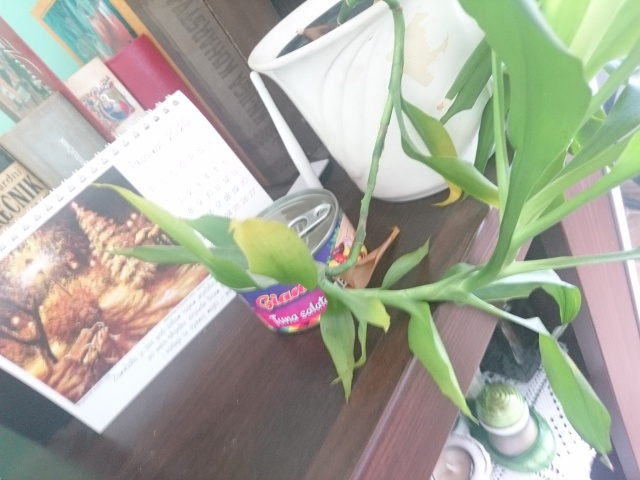Giana Tuna Salad Mexico 185g: (215, 185, 372, 336)
